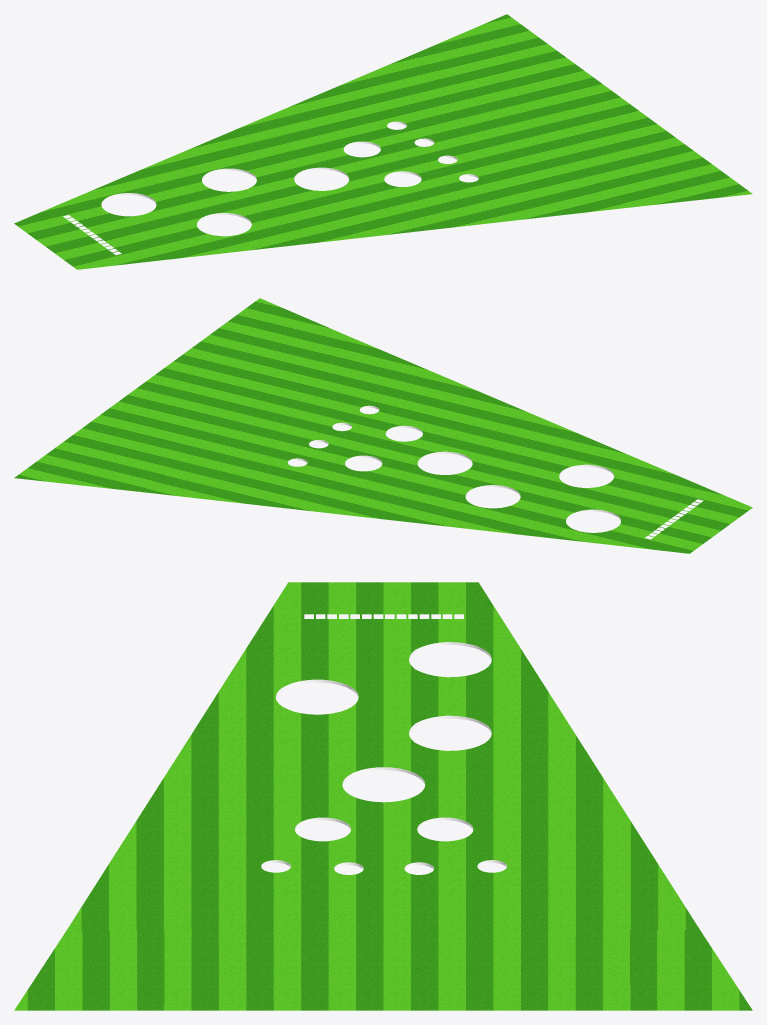
File: grass.glb
3 views of the same model, one above another, from view 1: azimuth 30°, elevation 25°; view 2: azimuth 150°, elevation 25°; view 3: azimuth 270°, elevation 25° (orthographic). The views are drawn at different scales.
Parts seen in each view (by area): view 1: Grass; view 2: Grass; view 3: Grass.
Part boxes in pixels (x1=…): Grass: x1=14, y1=14, x2=752, y2=269; Grass: x1=14, y1=298, x2=752, y2=553; Grass: x1=14, y1=582, x2=752, y2=1010.
Size of what is drawn, in the model's own units: 480 by 1.46 by 350.
Materials: 2 (1 with a texture image).
